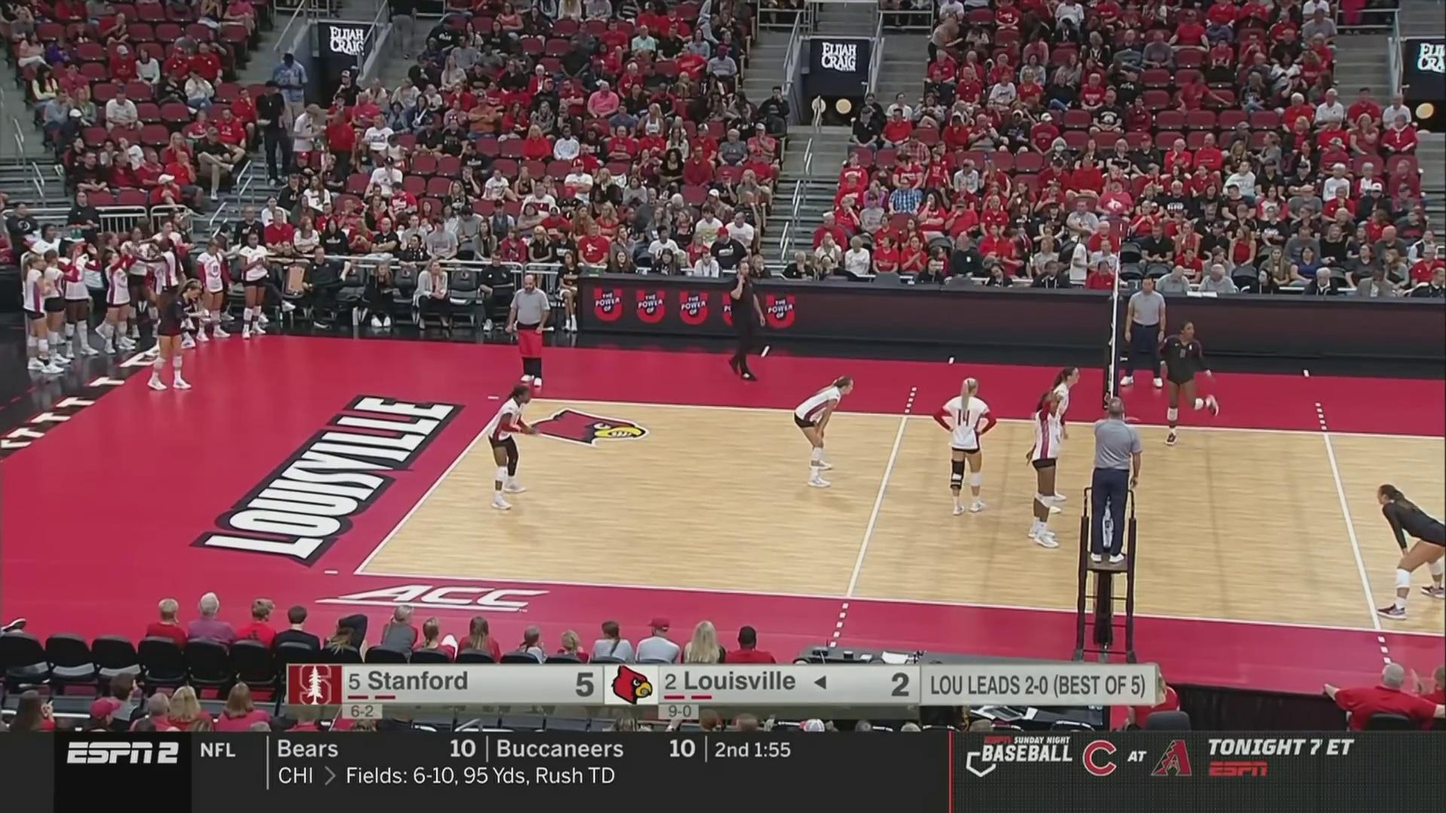player: (1374, 484, 1446, 619), (937, 377, 997, 514), (1160, 324, 1220, 448), (1033, 367, 1080, 516), (791, 378, 854, 485), (484, 387, 538, 508), (1028, 391, 1069, 547), (145, 282, 203, 388)
refree: (1090, 395, 1140, 565), (1122, 279, 1168, 386), (509, 275, 551, 388)
